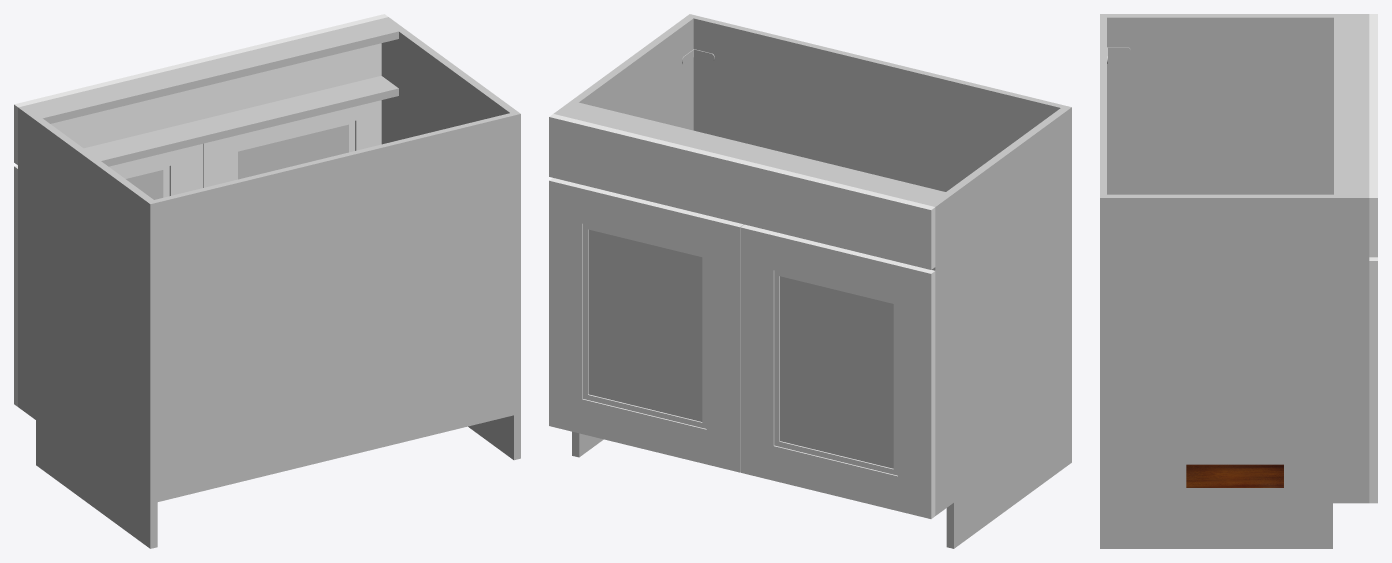
The picture shows the model from 3 angles, left to right: view 1: azimuth 30°, elevation 25°; view 2: azimuth 150°, elevation 25°; view 3: azimuth 270°, elevation 25°; orthographic projection. The views are drawn at different scales.
Visible parts, largest first — view 1: mesh5_mesh5-geometry, mesh9_mesh9-geometry, mesh30_mesh30-geometry, mesh1_mesh1-geometry, mesh11_mesh11-geometry, mesh3_mesh3-geometry, mesh29_mesh29-geometry, mesh27_mesh27-geometry, mesh23_mesh23-geometry, mesh7_mesh7-geometry, mesh21_mesh21-geometry; view 2: mesh9_mesh9-geometry, mesh29_mesh29-geometry, mesh5_mesh5-geometry, mesh30_mesh30-geometry, mesh21_mesh21-geometry, mesh27_mesh27-geometry, mesh23_mesh23-geometry, mesh25_mesh25-geometry, mesh1_mesh1-geometry, mesh11_mesh11-geometry; view 3: mesh1_mesh1-geometry, mesh9_mesh9-geometry, mesh11_mesh11-geometry, mesh33_mesh33-geometry, mesh27_mesh27-geometry, mesh30_mesh30-geometry, mesh5_mesh5-geometry.
Boxes of the visible parts, left/top/right/bottom form: mesh5_mesh5-geometry: left=154, top=113, right=513, bottom=494; mesh9_mesh9-geometry: left=18, top=106, right=157, bottom=548; mesh30_mesh30-geometry: left=14, top=14, right=387, bottom=164; mesh1_mesh1-geometry: left=381, top=17, right=520, bottom=460; mesh11_mesh11-geometry: left=25, top=19, right=398, bottom=123; mesh3_mesh3-geometry: left=84, top=75, right=398, bottom=166; mesh29_mesh29-geometry: left=126, top=124, right=348, bottom=199; mesh27_mesh27-geometry: left=163, top=100, right=381, bottom=197; mesh23_mesh23-geometry: left=109, top=106, right=356, bottom=178; mesh7_mesh7-geometry: left=157, top=408, right=513, bottom=501; mesh21_mesh21-geometry: left=14, top=135, right=237, bottom=406; mesh9_mesh9-geometry: left=928, top=105, right=1071, bottom=548; mesh29_mesh29-geometry: left=588, top=229, right=893, bottom=468; mesh5_mesh5-geometry: left=693, top=16, right=1063, bottom=191; mesh30_mesh30-geometry: left=549, top=114, right=935, bottom=269; mesh21_mesh21-geometry: left=702, top=216, right=935, bottom=518; mesh27_mesh27-geometry: left=549, top=178, right=779, bottom=480; mesh23_mesh23-geometry: left=580, top=186, right=903, bottom=303; mesh25_mesh25-geometry: left=582, top=394, right=897, bottom=510; mesh1_mesh1-geometry: left=553, top=14, right=696, bottom=457; mesh11_mesh11-geometry: left=561, top=102, right=945, bottom=204; mesh1_mesh1-geometry: left=1100, top=194, right=1369, bottom=548; mesh9_mesh9-geometry: left=1100, top=14, right=1369, bottom=194; mesh11_mesh11-geometry: left=1334, top=17, right=1369, bottom=194; mesh33_mesh33-geometry: left=1186, top=464, right=1283, bottom=487; mesh27_mesh27-geometry: left=1369, top=257, right=1377, bottom=503; mesh30_mesh30-geometry: left=1369, top=14, right=1377, bottom=257; mesh5_mesh5-geometry: left=1100, top=17, right=1106, bottom=194.
Size of the model in its own units: 0.6763 by 0.5985 by 0.4294.
